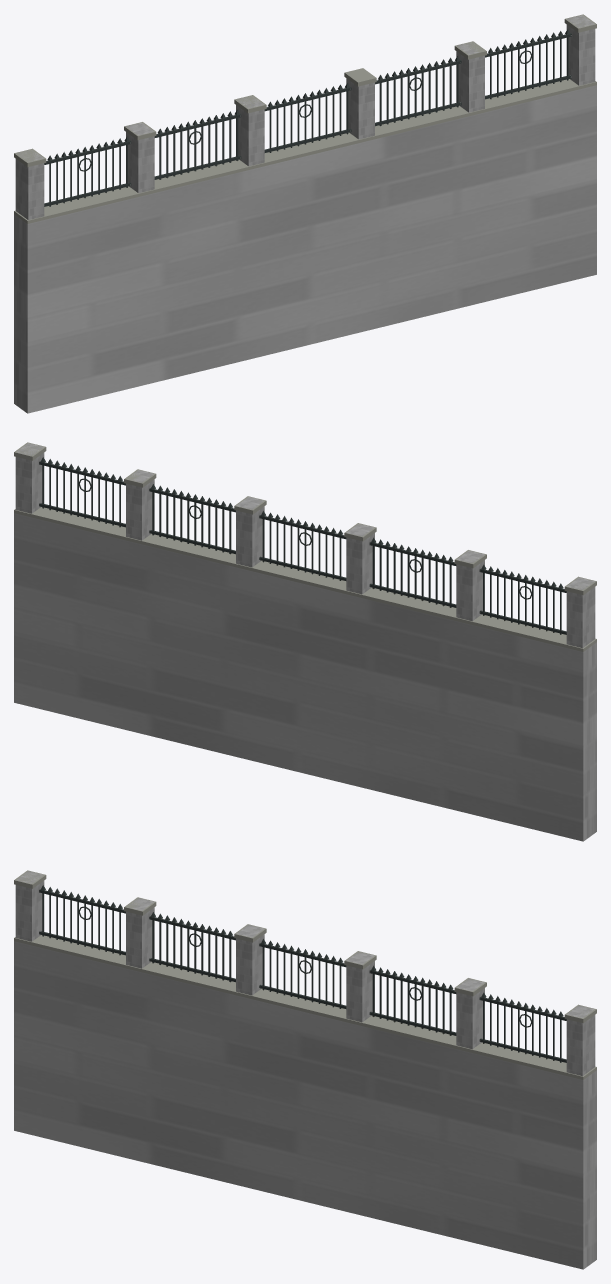
Rendered from SM_QD_Church_Fence_174.fbx.
The picture shows the model from 3 angles, top to bottom: view 1: azimuth 30°, elevation 25°; view 2: azimuth 150°, elevation 25°; view 3: azimuth 330°, elevation 25°; orthographic projection.
Visible parts, largest first — view 1: SM_QD_Church_Fence_174; view 2: SM_QD_Church_Fence_174; view 3: SM_QD_Church_Fence_174.
Boxes of the visible parts, left/top/right/bottom form: SM_QD_Church_Fence_174: left=14, top=14, right=596, bottom=413; SM_QD_Church_Fence_174: left=14, top=442, right=596, bottom=841; SM_QD_Church_Fence_174: left=14, top=870, right=596, bottom=1269.
Size of the model in its own units: 13.08 by 0.5391 by 5.5.
